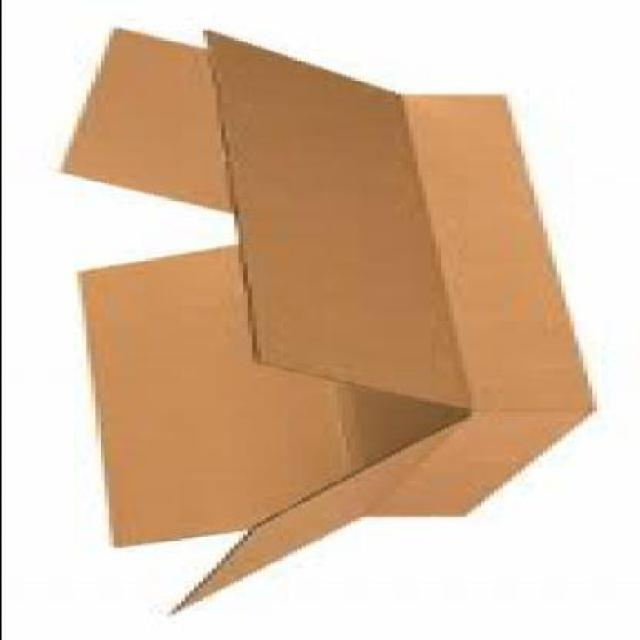CARDBOARD: (54, 29, 591, 617)
